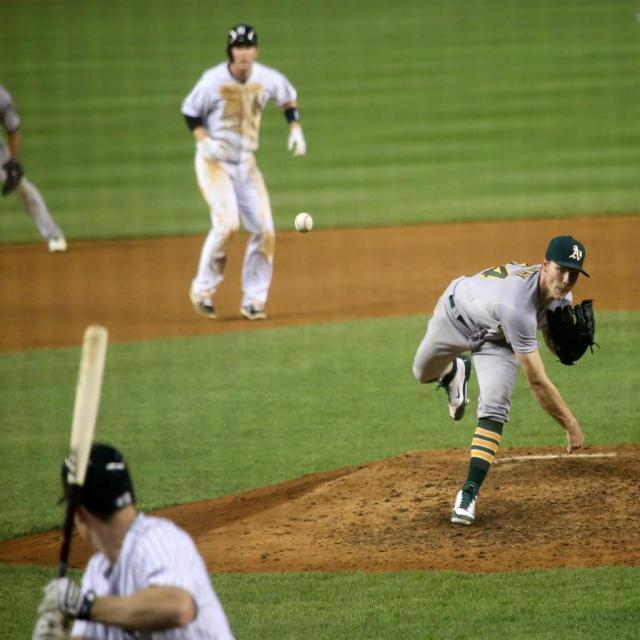ball: (293, 212, 313, 234)
bat: (55, 324, 111, 578)
